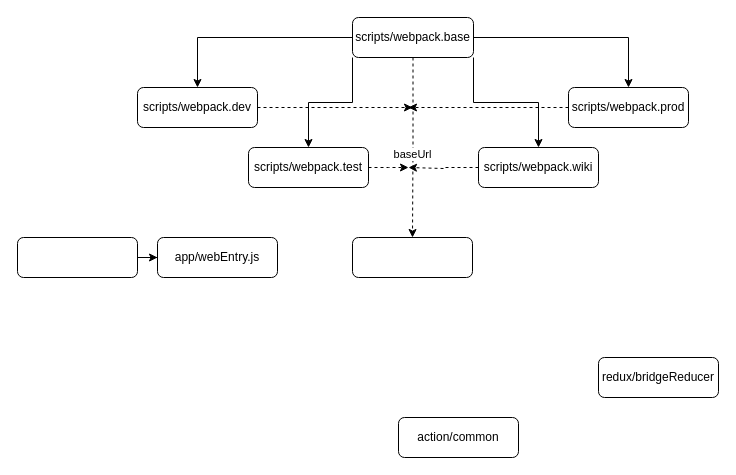
The diagram is 736 pixels wide and 475 high, and some of its shapes have lost their labels. Each missing label, with the box of its shape:
app/config: (352, 236, 472, 278)
app/index.html: (16, 236, 138, 278)
